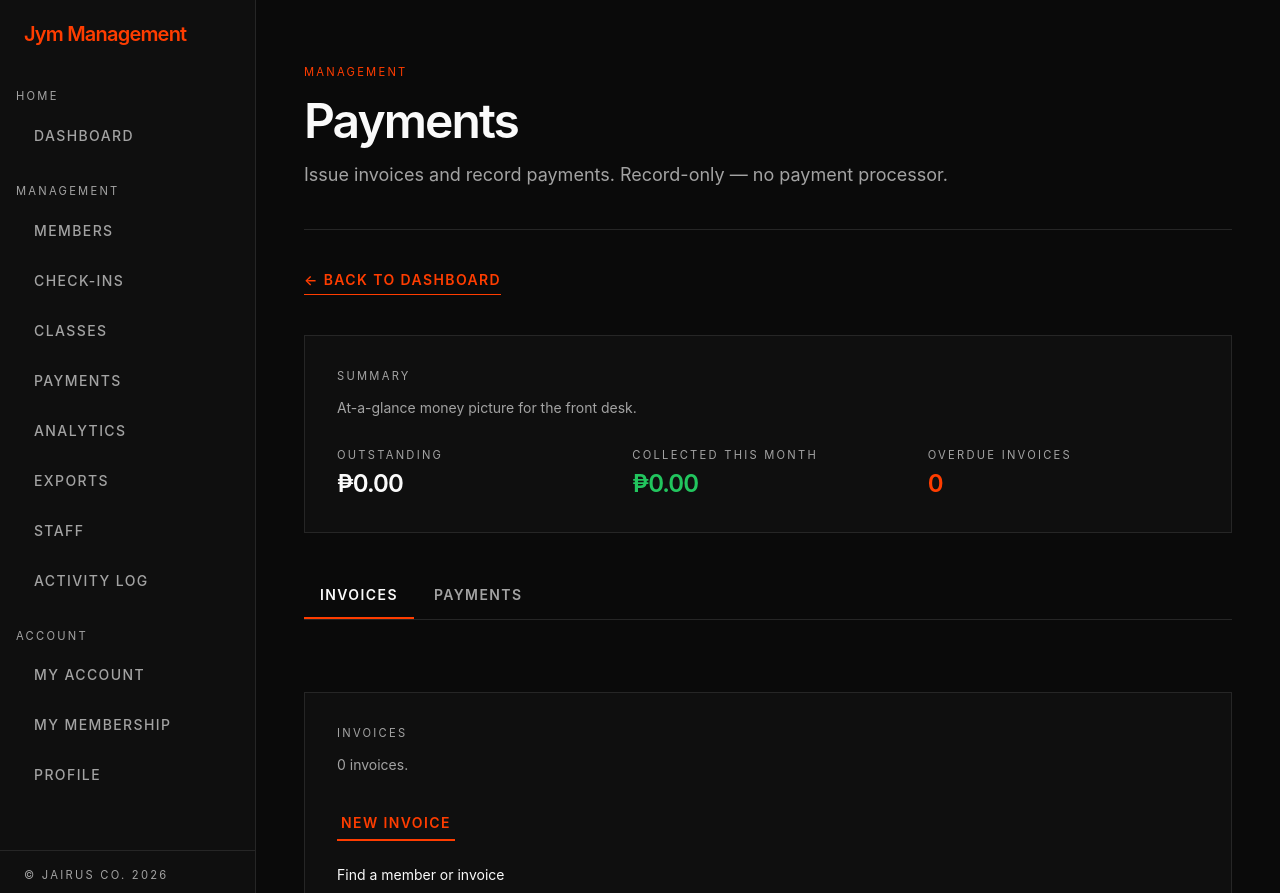
Test: PaymentsPage › renders the empty state
Expected: the button "New invoice" is shown, [337,805,455,841]
Click the tab "Payments". click: click(478, 596)
box: [418,573,538,619]
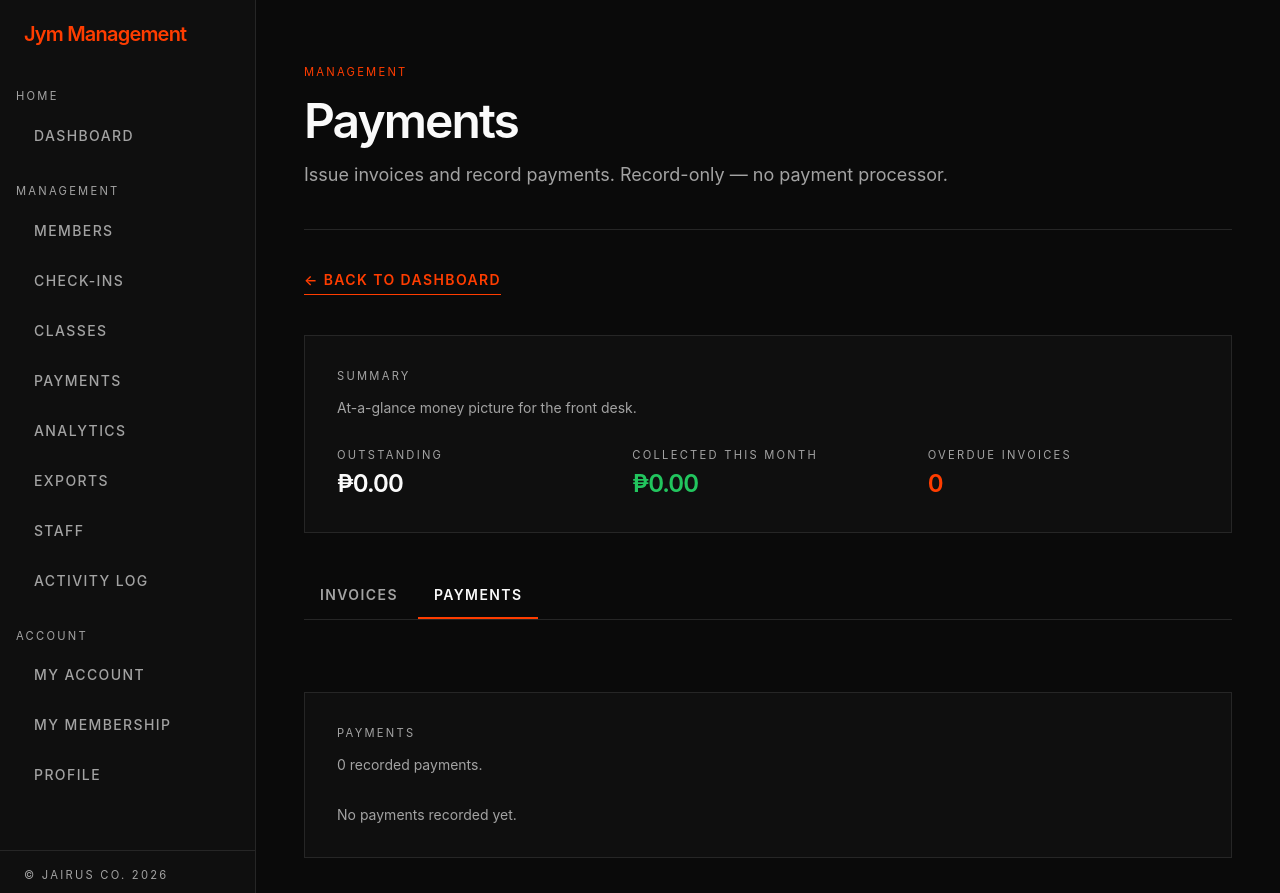
Expected: the text "No payments recorded yet." is shown, [337,806,517,823]
